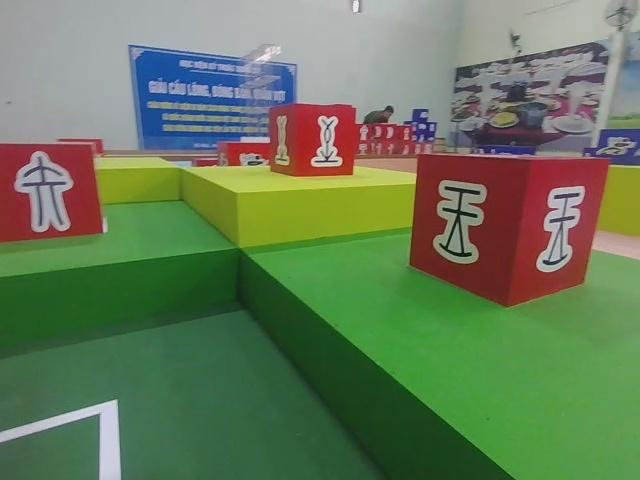R2 Fake: (0, 141, 107, 245)
R2 Real: (407, 149, 614, 310), (265, 101, 358, 179)
